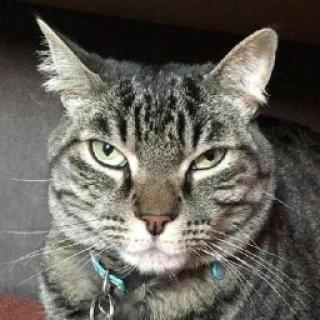cat: (32, 12, 284, 274)
nose: (131, 191, 181, 243)
